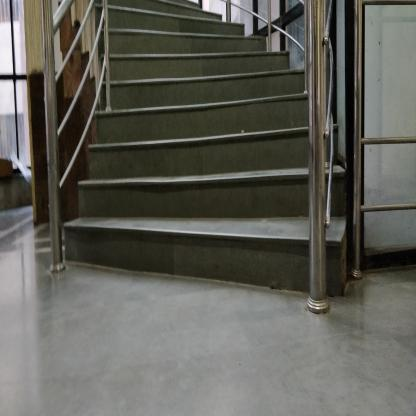stairs: (100, 137, 290, 300)
